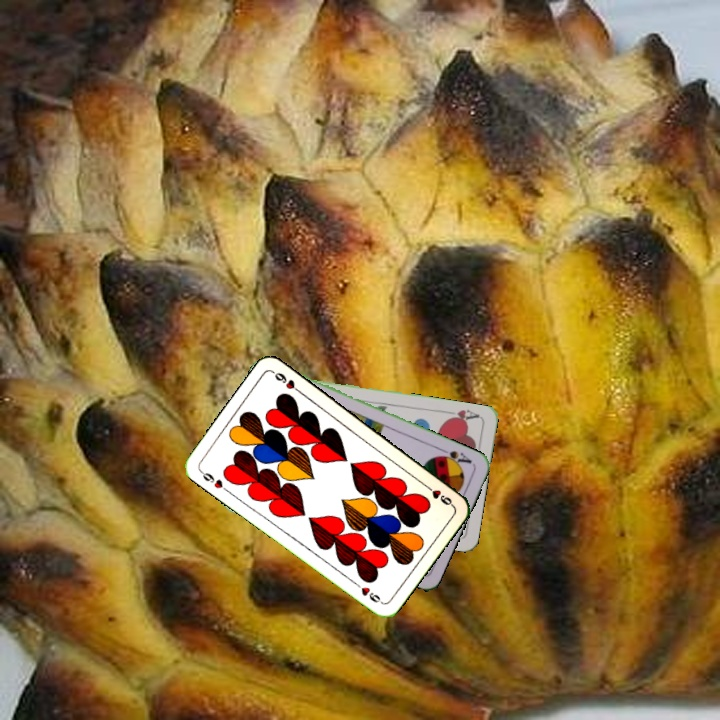H9: (420, 480, 456, 509), (196, 467, 232, 495)
HA: (442, 405, 482, 425)
SA: (434, 444, 474, 469)
